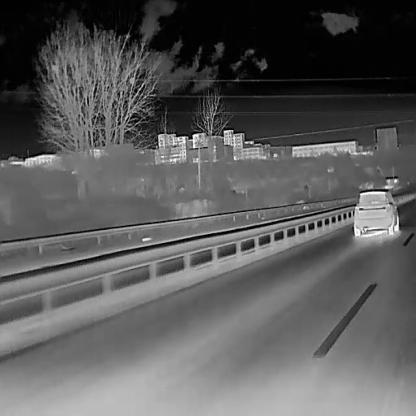car: (353, 187, 399, 236)
